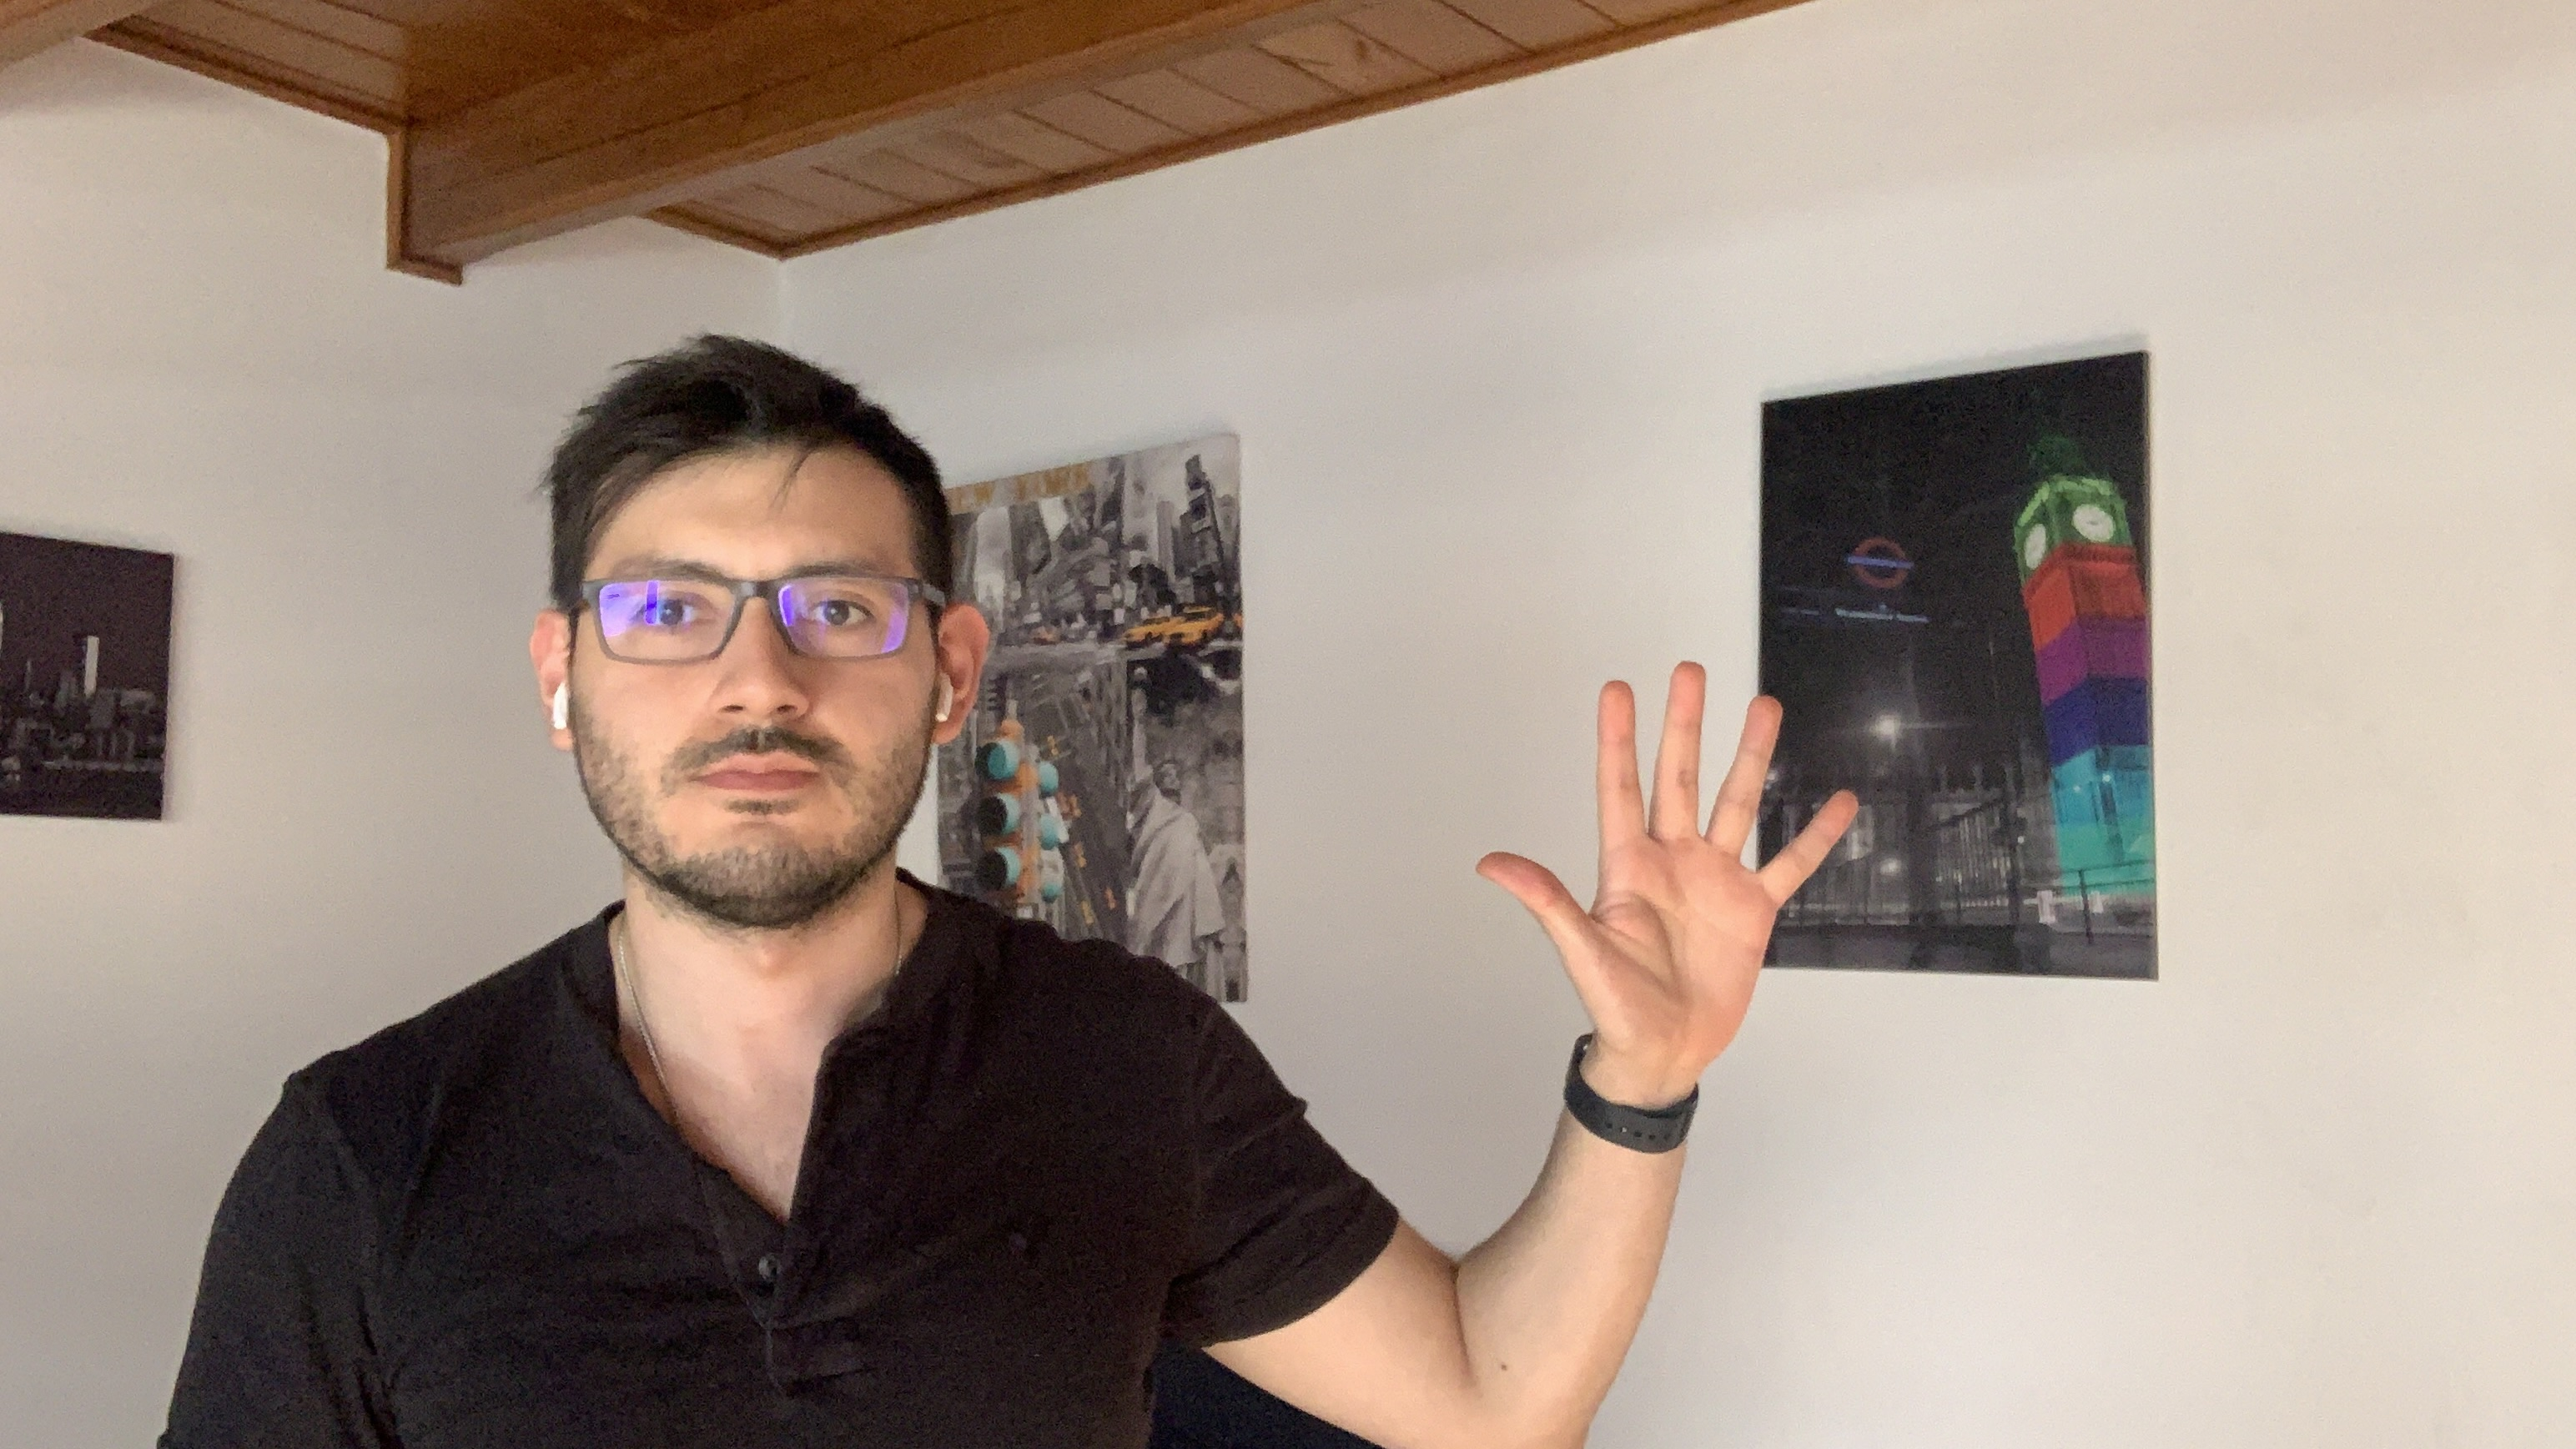Hello: (1463, 651, 1874, 1088)
